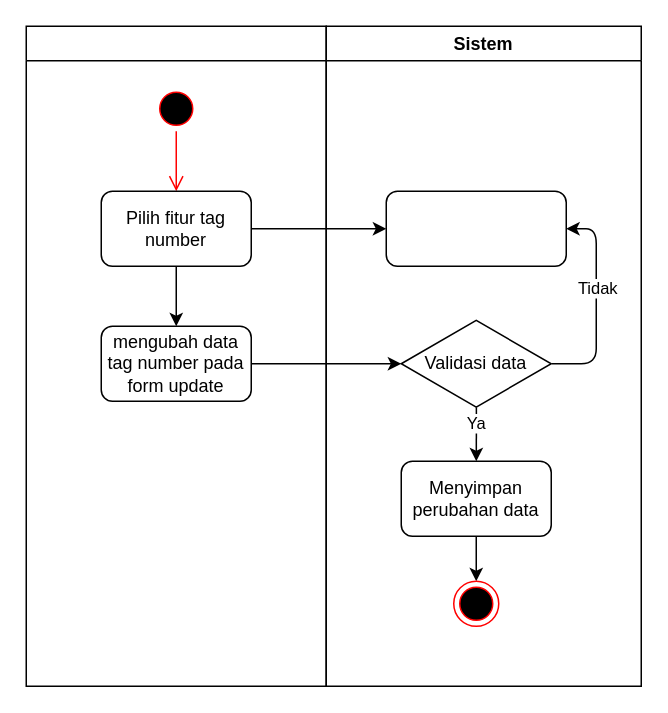
Some shapes in this 668 by 713 pixel diagram are drawn without their labels. The box of each missing label's shape, as (x1, y1, x2, y2) in pixels:
Menampilkan halaman beserta data update tag number: (385, 190, 566, 266)
User: (25, 25, 326, 686)
